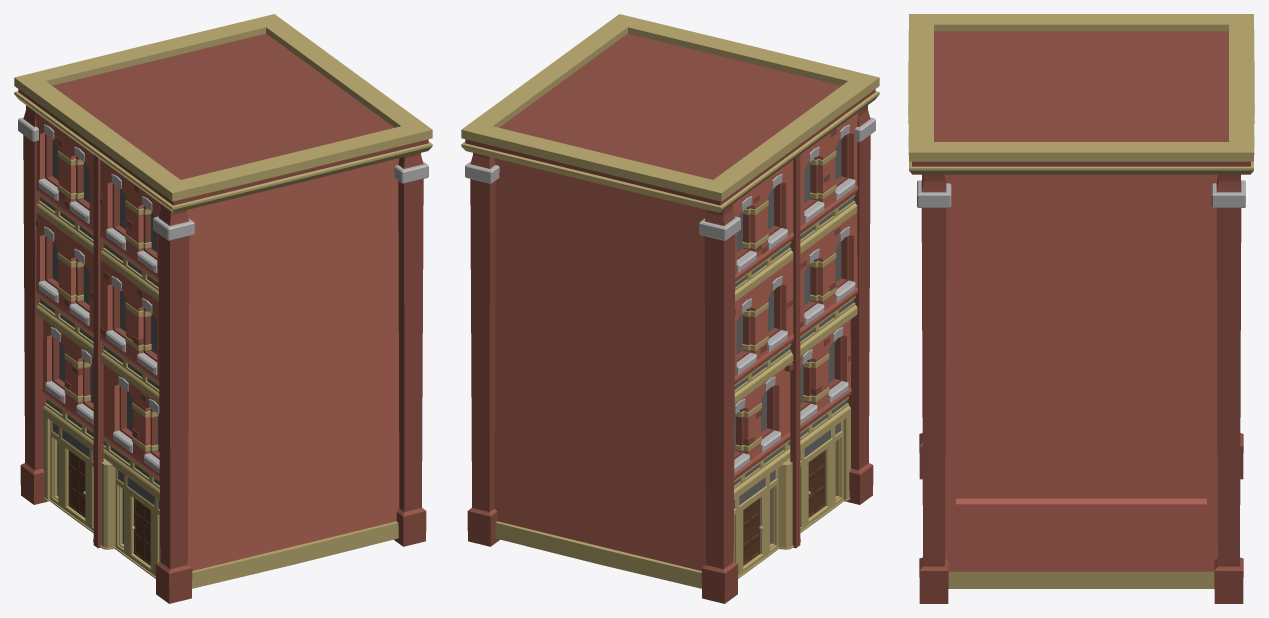
The model's file is City_Building1.fbx.
3 renders of one model, left to right at view 1: azimuth 30°, elevation 25°; view 2: azimuth 150°, elevation 25°; view 3: azimuth 270°, elevation 25°, orthographic. The views are drawn at different scales.
Parts seen in each view (by area): view 1: House_1; view 2: House_1; view 3: House_1.
Boxes of the visible parts, bbox=[...] form: House_1: bbox=[14, 14, 432, 603]; House_1: bbox=[461, 14, 879, 603]; House_1: bbox=[908, 14, 1254, 603].
Size of the model in its own units: 6.7 by 10.16 by 7.05.
